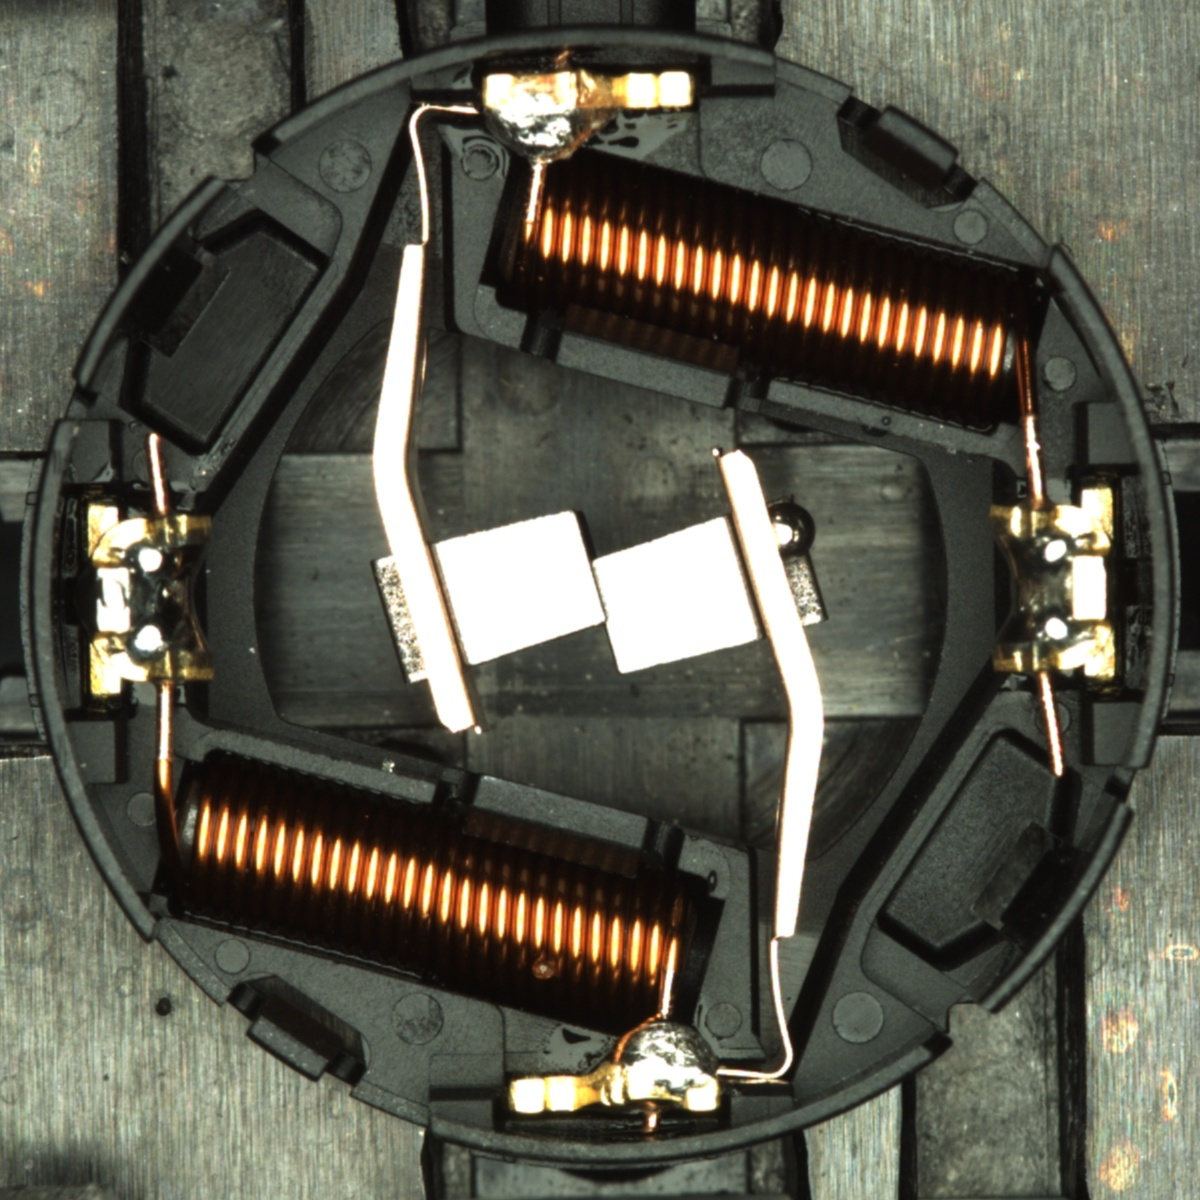1: (258, 55, 487, 279), (716, 953, 945, 1177)
2: (716, 55, 945, 279), (258, 953, 487, 1177)
3: (29, 279, 258, 503), (945, 729, 1175, 953)
4: (258, 279, 487, 503), (716, 729, 945, 953)
5: (487, 167, 716, 391), (487, 841, 716, 1065)
6: (716, 279, 945, 503), (258, 729, 487, 953)
7: (945, 279, 1175, 503), (29, 729, 258, 953)
chau_dien: (79, 498, 219, 698), (984, 486, 1123, 685)
hat_chi: (766, 500, 816, 558)
tay_choi: (480, 68, 698, 171), (508, 1014, 722, 1115)
thanh_de: (954, 786, 1141, 1030), (59, 162, 245, 403)
